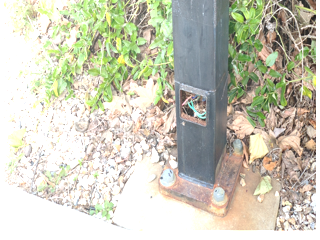Edge: (5, 180, 117, 227)
Obstacle: (159, 2, 235, 206)
